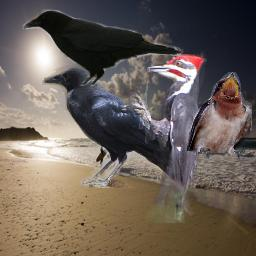Crow: (42, 65, 188, 188), (19, 6, 181, 86)
Swallow: (187, 72, 252, 159)
Woodpecker: (120, 54, 207, 223)
